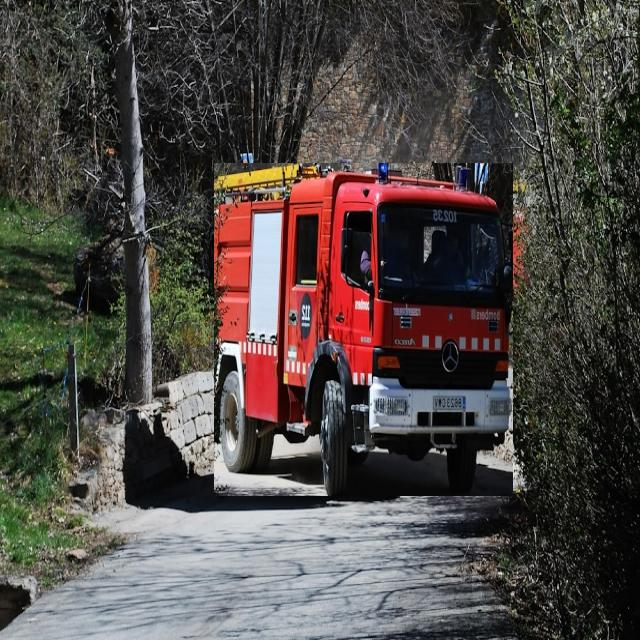emergency: (215, 164, 513, 496)
